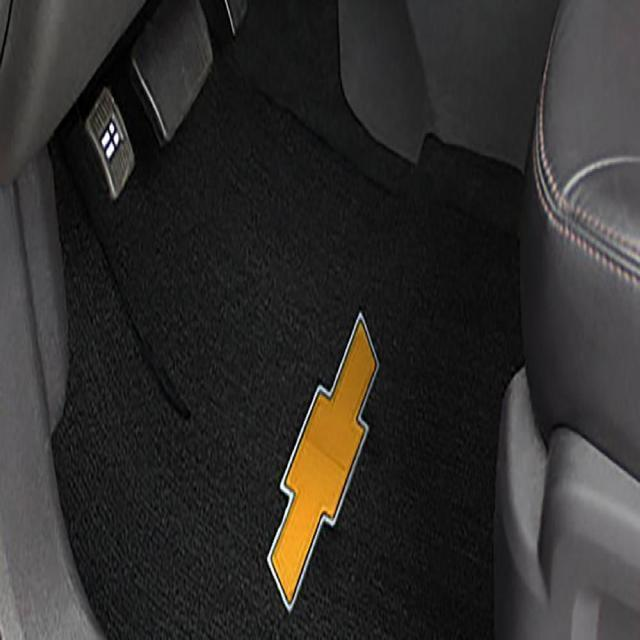Chevrolet: (267, 305, 382, 616)
